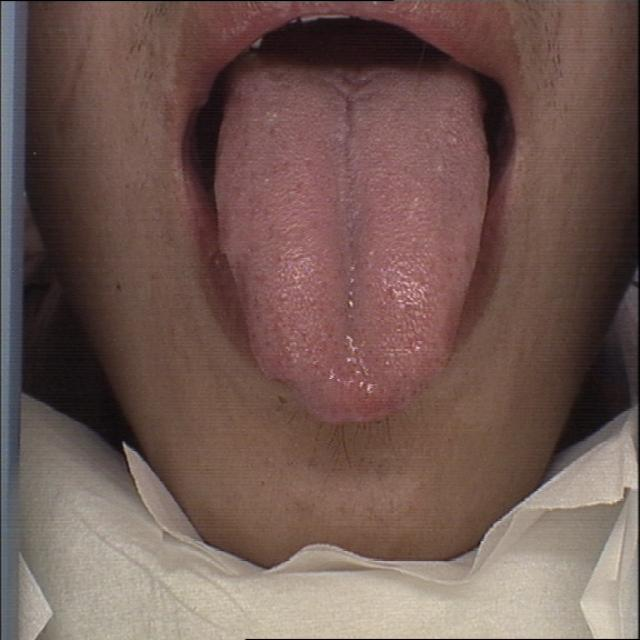baitaishe: (214, 57, 489, 423)
liewenshe: (316, 74, 382, 328)
